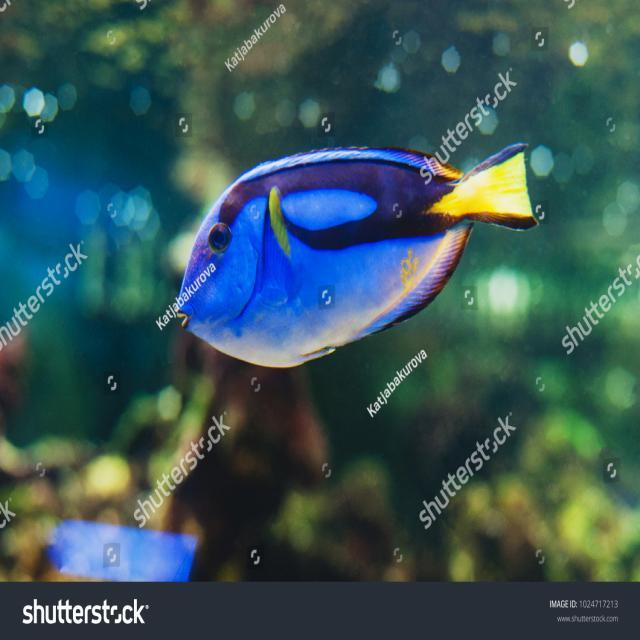BlueTang: (155, 108, 543, 392)
